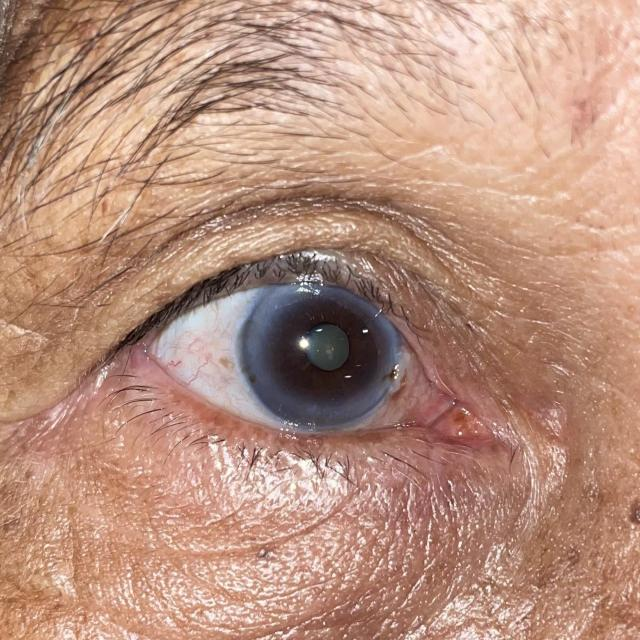Cataract: (238, 266, 398, 430)
